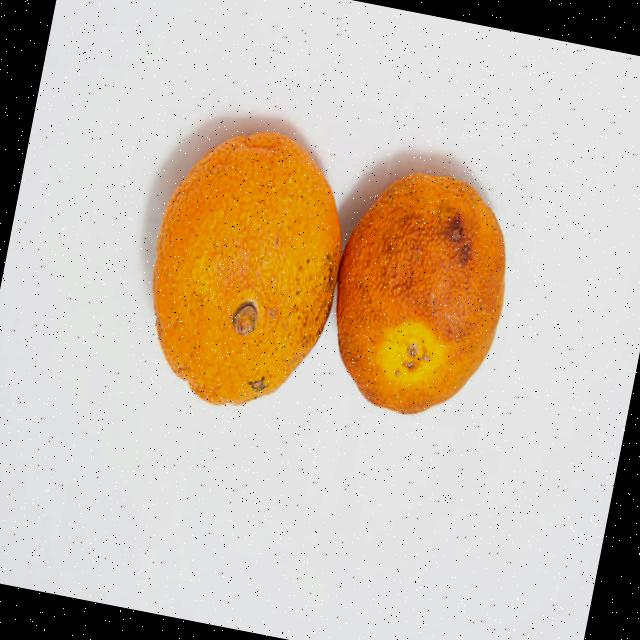overripe: (125, 107, 364, 426), (315, 156, 532, 438)
